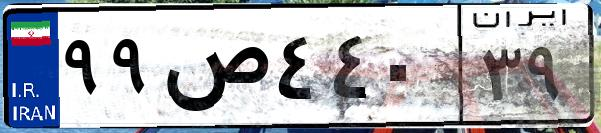0: (385, 28, 445, 110)
3: (475, 38, 525, 113)
4: (270, 28, 330, 110), (330, 28, 385, 110)
9: (57, 26, 110, 100), (525, 38, 570, 115), (110, 28, 158, 98)
ص: (158, 20, 270, 120)
